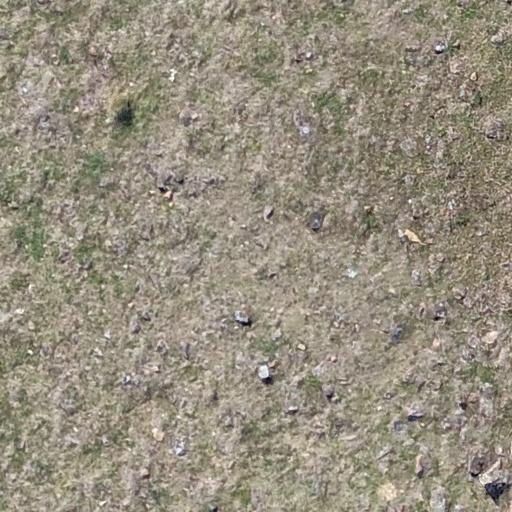stone: (108, 235, 129, 257), (433, 137, 450, 163), (306, 210, 326, 232), (178, 107, 200, 127), (256, 363, 275, 386), (57, 201, 76, 224), (494, 344, 512, 368), (232, 307, 253, 327), (58, 396, 79, 416), (445, 284, 470, 300), (414, 453, 428, 479), (260, 204, 280, 221), (400, 369, 420, 386), (466, 334, 482, 355), (157, 186, 176, 203), (137, 223, 154, 242), (432, 302, 448, 322), (294, 50, 316, 64), (140, 361, 162, 375), (36, 113, 52, 132), (154, 338, 170, 356), (179, 340, 193, 360), (98, 175, 117, 189), (460, 347, 476, 363), (466, 392, 480, 410), (57, 249, 72, 264), (402, 172, 416, 188), (377, 446, 393, 460), (411, 268, 423, 286), (458, 85, 470, 101), (490, 34, 505, 46), (202, 176, 218, 187), (223, 414, 235, 428), (167, 68, 178, 83), (271, 328, 282, 342), (140, 310, 152, 322), (139, 468, 150, 480), (130, 322, 141, 334), (416, 380, 426, 393), (418, 303, 426, 319), (404, 45, 420, 53), (434, 44, 446, 54), (363, 204, 375, 214), (286, 406, 299, 414), (436, 253, 446, 263), (451, 41, 461, 50), (327, 355, 338, 363), (9, 202, 20, 210), (14, 307, 25, 315), (383, 392, 394, 400), (268, 272, 278, 280), (103, 330, 111, 340), (26, 349, 34, 356)
